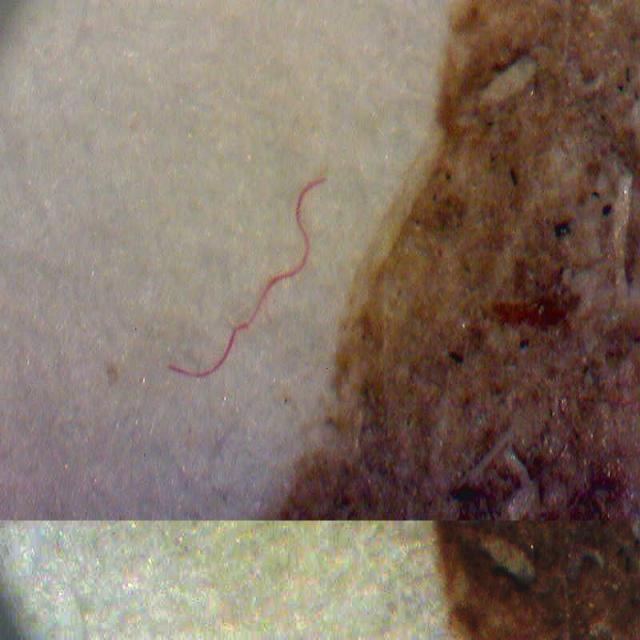microplastic: (167, 176, 329, 377)
